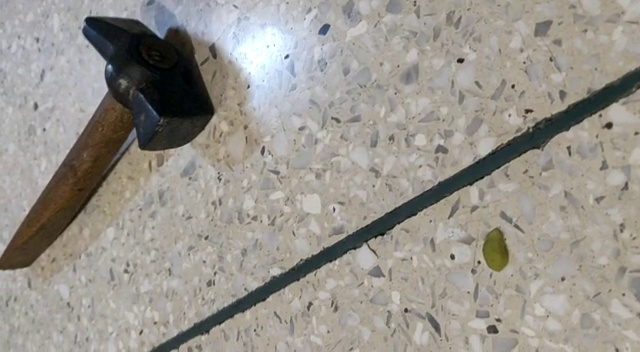hammer: (1, 15, 210, 272)
